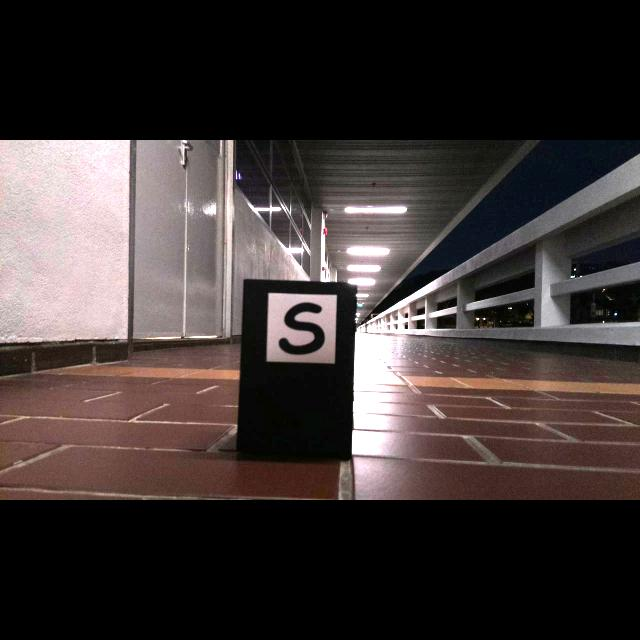S: (278, 300, 325, 355)
